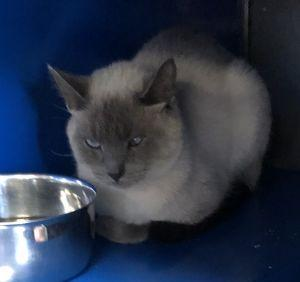siamese: (45, 48, 190, 202)
